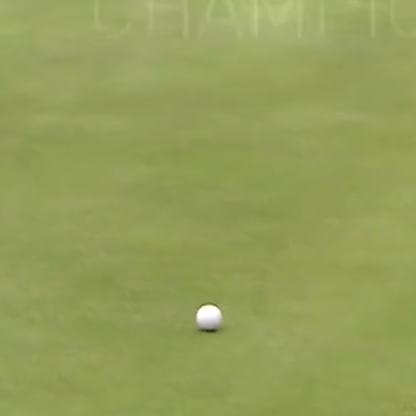golfball: (192, 299, 223, 330)
